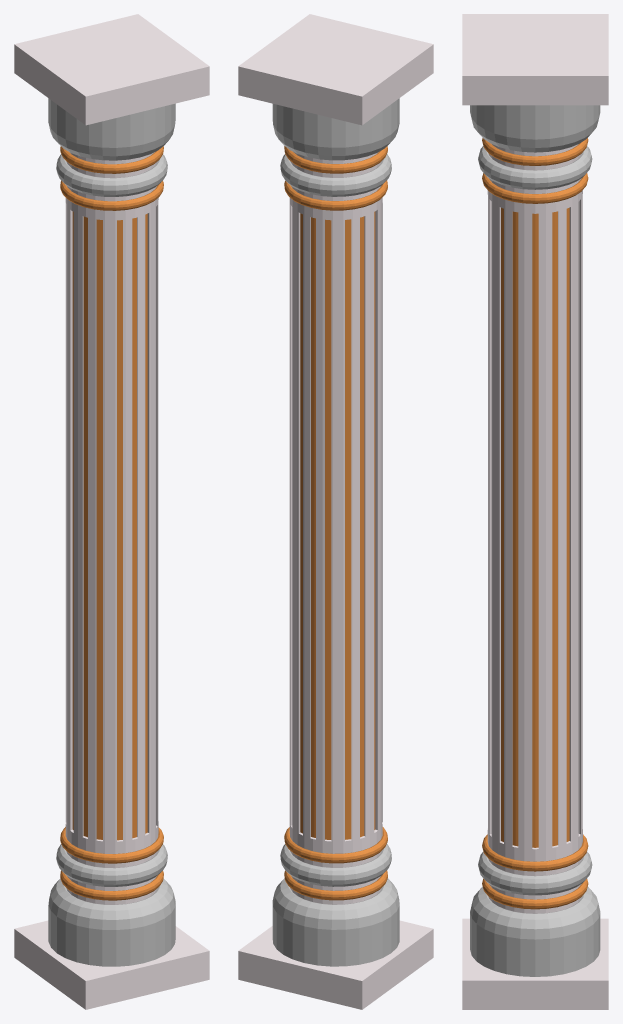
File: pillars.obj
3 renders of one model, left to right at view 1: azimuth 30°, elevation 25°; view 2: azimuth 150°, elevation 25°; view 3: azimuth 270°, elevation 25°, orthographic. The views are drawn at different scales.
Visible parts, largest first — view 1: Circle628, Circle639, Rectangle8931, Rectangle8930, Circle629, Circle638, Circle630, Circle632, Circle635, Circle637, Circle633, Circle634 (+2 smaller); view 2: Circle628, Circle639, Rectangle8931, Rectangle8930, Circle629, Circle638, Circle630, Circle632, Circle635, Circle637, Circle633, Circle631 (+2 smaller); view 3: Circle628, Circle639, Rectangle8931, Rectangle8930, Circle629, Circle630, Circle638, Circle632, Circle635, Circle637, Circle633, Circle631 (+2 smaller).
Part boxes in pixels (box(x1,y1,x2,y2)): Circle628: box(65, 152, 158, 904); Circle639: box(72, 211, 147, 840); Rectangle8931: box(14, 14, 209, 125); Rectangle8930: box(14, 920, 209, 1009); Circle629: box(48, 903, 175, 966); Circle638: box(48, 98, 175, 147); Circle630: box(48, 878, 175, 929); Circle632: box(56, 844, 167, 886); Circle635: box(56, 154, 167, 196); Circle637: box(49, 125, 174, 160); Circle633: box(60, 827, 163, 863); Circle634: box(60, 180, 163, 210); Circle628: box(289, 152, 382, 904); Circle639: box(300, 211, 375, 839); Rectangle8931: box(238, 14, 433, 125); Rectangle8930: box(238, 920, 433, 1009); Circle629: box(272, 904, 399, 966); Circle638: box(272, 98, 399, 147); Circle630: box(272, 878, 399, 929); Circle632: box(280, 844, 391, 886); Circle635: box(280, 154, 391, 196); Circle637: box(273, 123, 399, 160); Circle633: box(284, 827, 387, 863); Circle631: box(284, 870, 387, 900); Circle628: box(487, 144, 582, 913); Circle639: box(501, 207, 569, 847); Rectangle8931: box(462, 14, 608, 105); Rectangle8930: box(462, 918, 608, 1009); Circle629: box(470, 912, 600, 976); Circle630: box(470, 886, 600, 939); Circle638: box(470, 105, 600, 139); Circle632: box(478, 851, 592, 895); Circle635: box(478, 146, 592, 189); Circle637: box(470, 115, 599, 152); Circle633: box(482, 834, 588, 871); Circle631: box(482, 878, 588, 909).
Size of the model in its own units: 450 by 3167 by 450.
